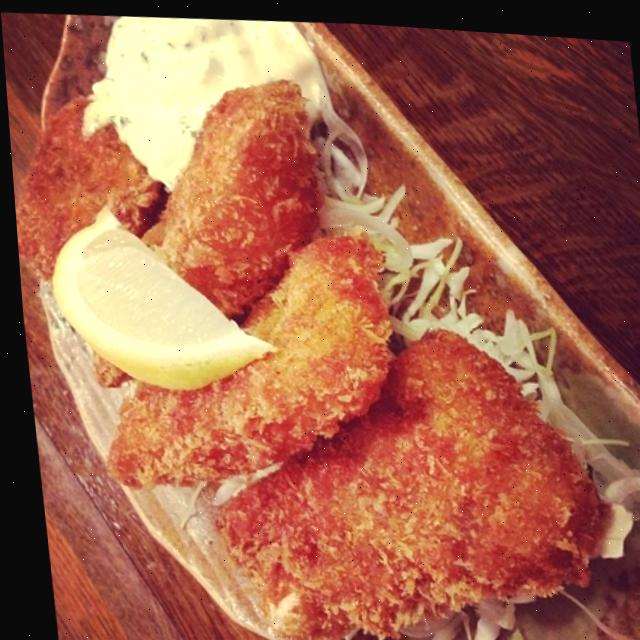牛肉菜式: (0, 8, 640, 640)
